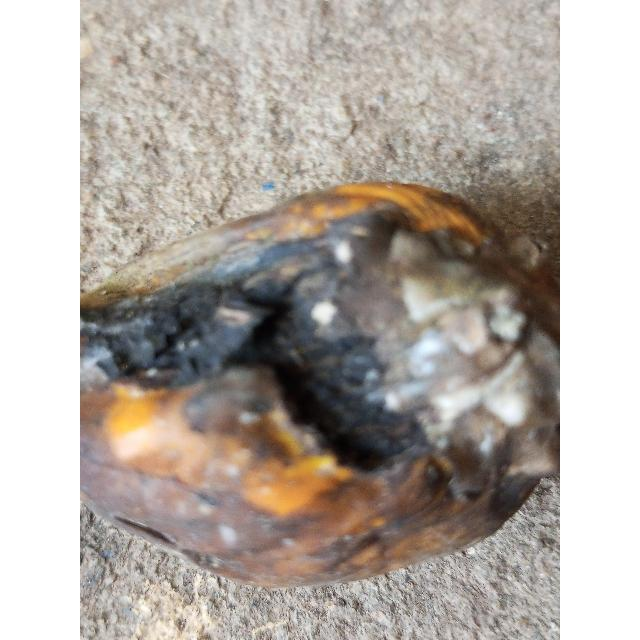damaged: (80, 182, 560, 593)
